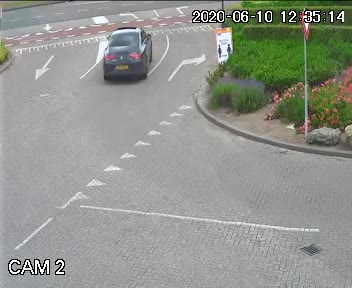car: (95, 21, 157, 87)
